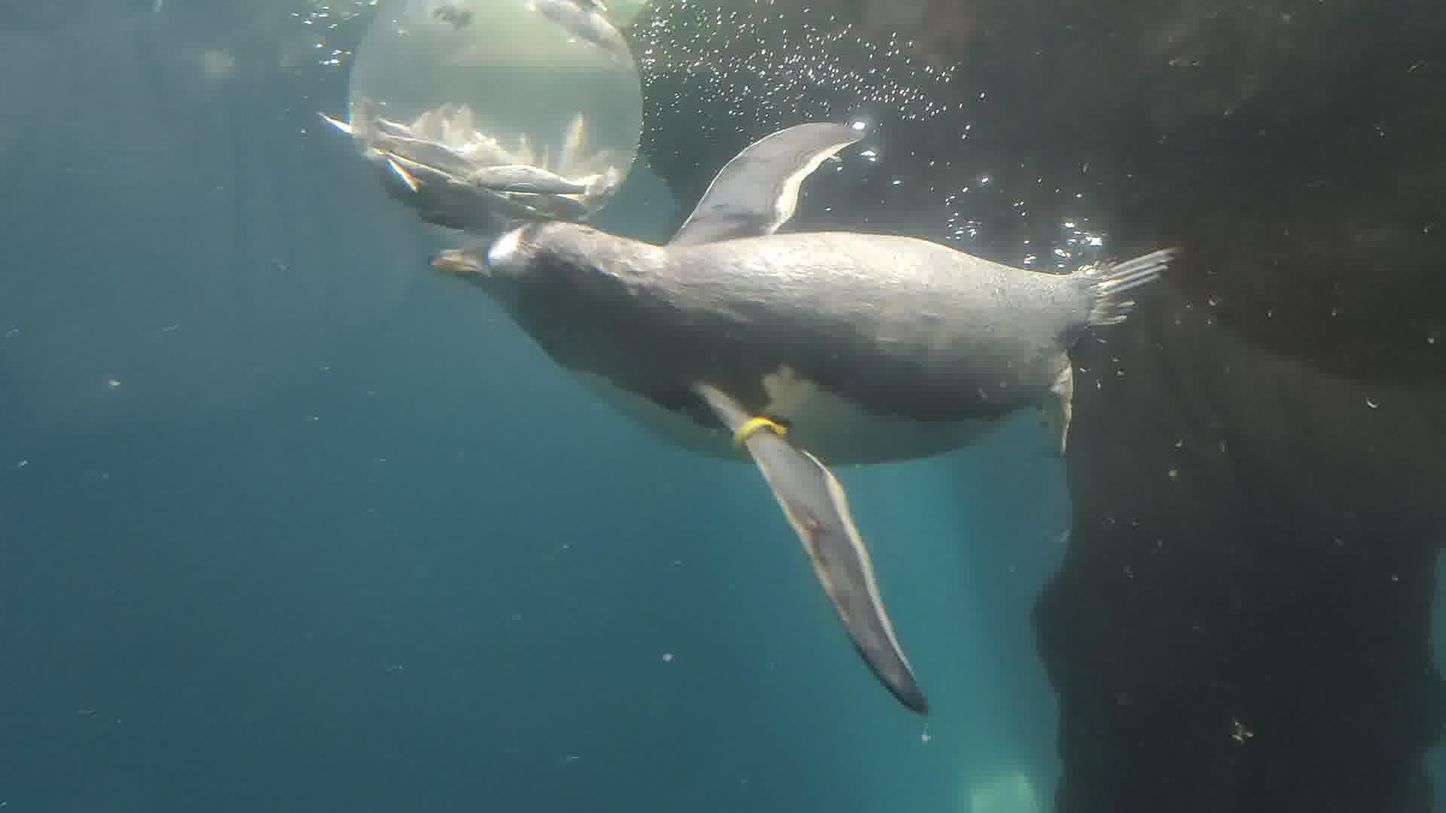apple: (429, 121, 1185, 717)
